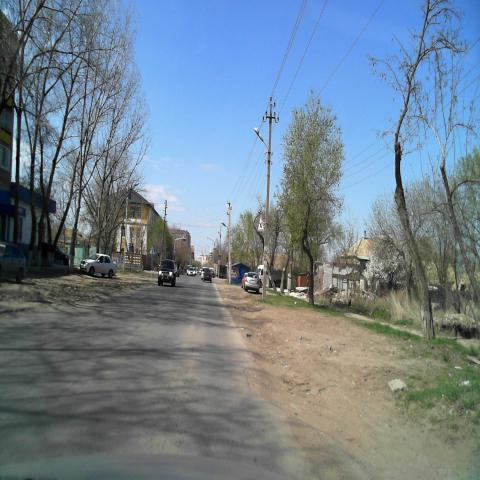1_6: (257, 214, 264, 231)
